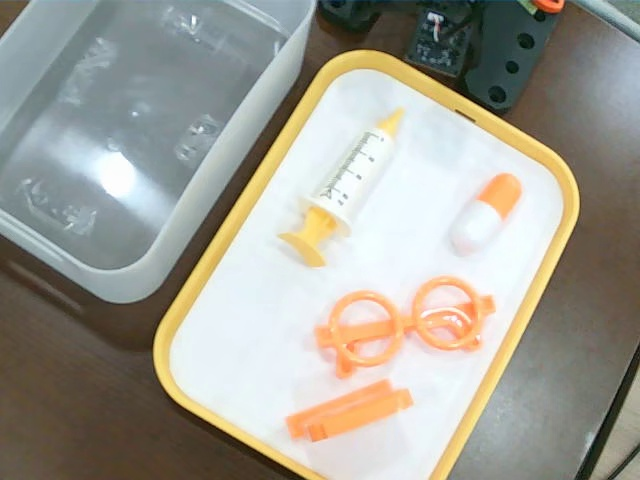pill: (453, 173, 522, 252)
syringe: (276, 107, 405, 267)
